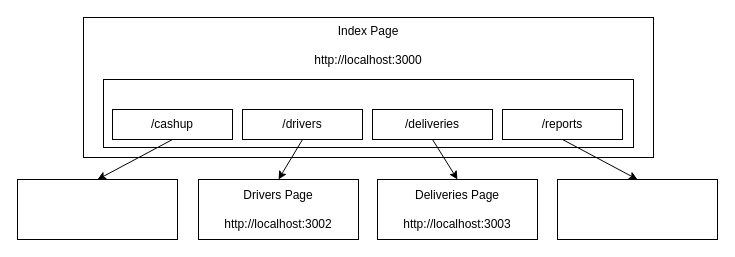
The diagram is 735 pixels wide and 257 high, and some of its shapes have lost their labels. Each missing label, with the box of its shape:
Cashup Page http://localhost:3001: (16, 178, 178, 240)
HTTP Proxies: (102, 78, 634, 148)
Reports Page http://localhost:3004: (556, 178, 718, 240)
